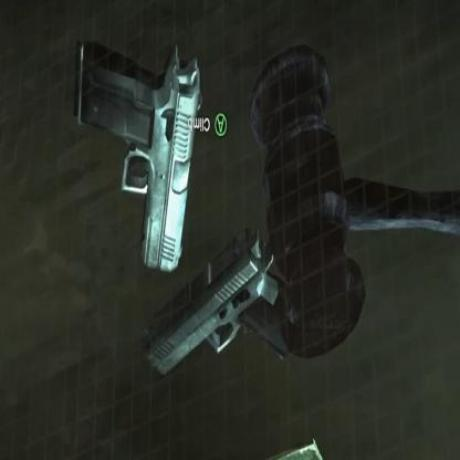weapon: (70, 41, 208, 274), (141, 254, 320, 371)
